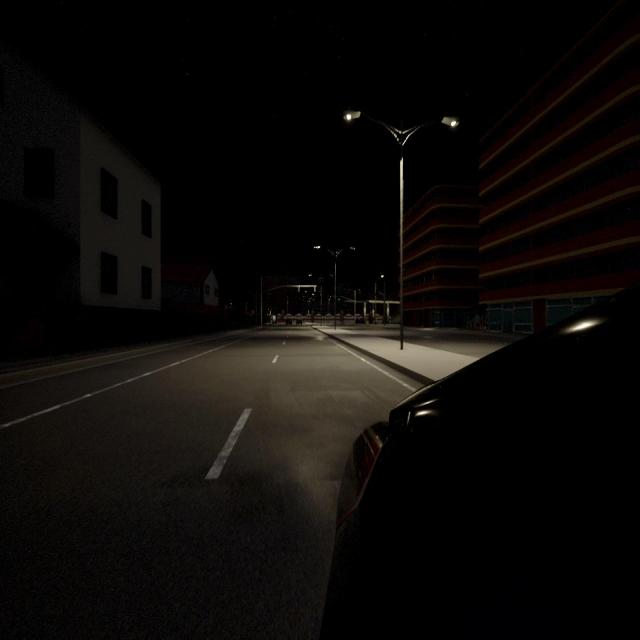Vehicle: (326, 296, 639, 637), (356, 317, 363, 324), (286, 318, 292, 326), (278, 317, 285, 323), (296, 319, 302, 325)
traffic_light: (328, 296, 330, 301), (338, 296, 340, 301), (314, 287, 316, 292), (298, 287, 300, 292)
